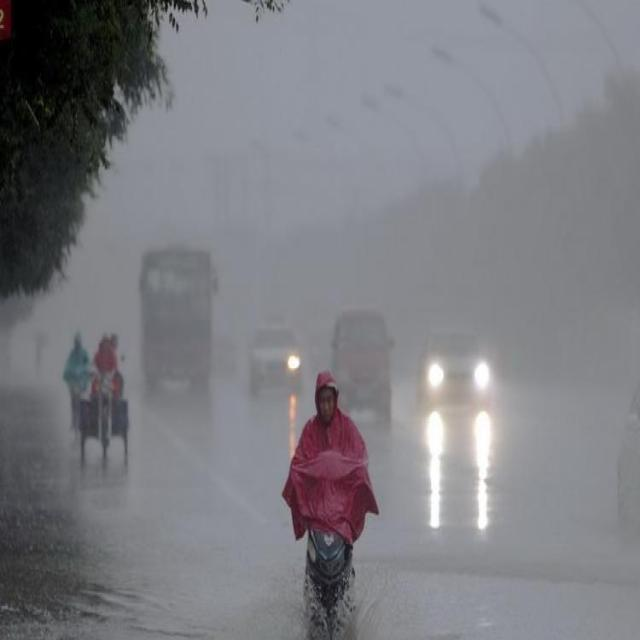car: (248, 319, 302, 393)
